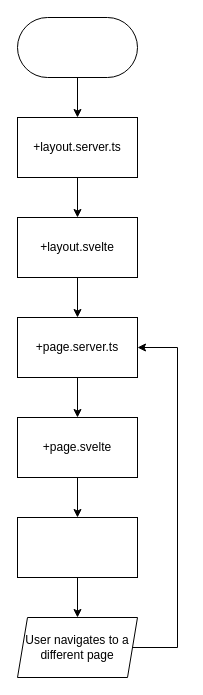
Some shapes in this 203 by 695 pixel diagram are drawn without their labels. The shapes that lost their labels are listed below. From the top down, each one's centre as x and y in pixels, then its label:
point (77, 47): Website Load
point (77, 547): Return entire page to user
